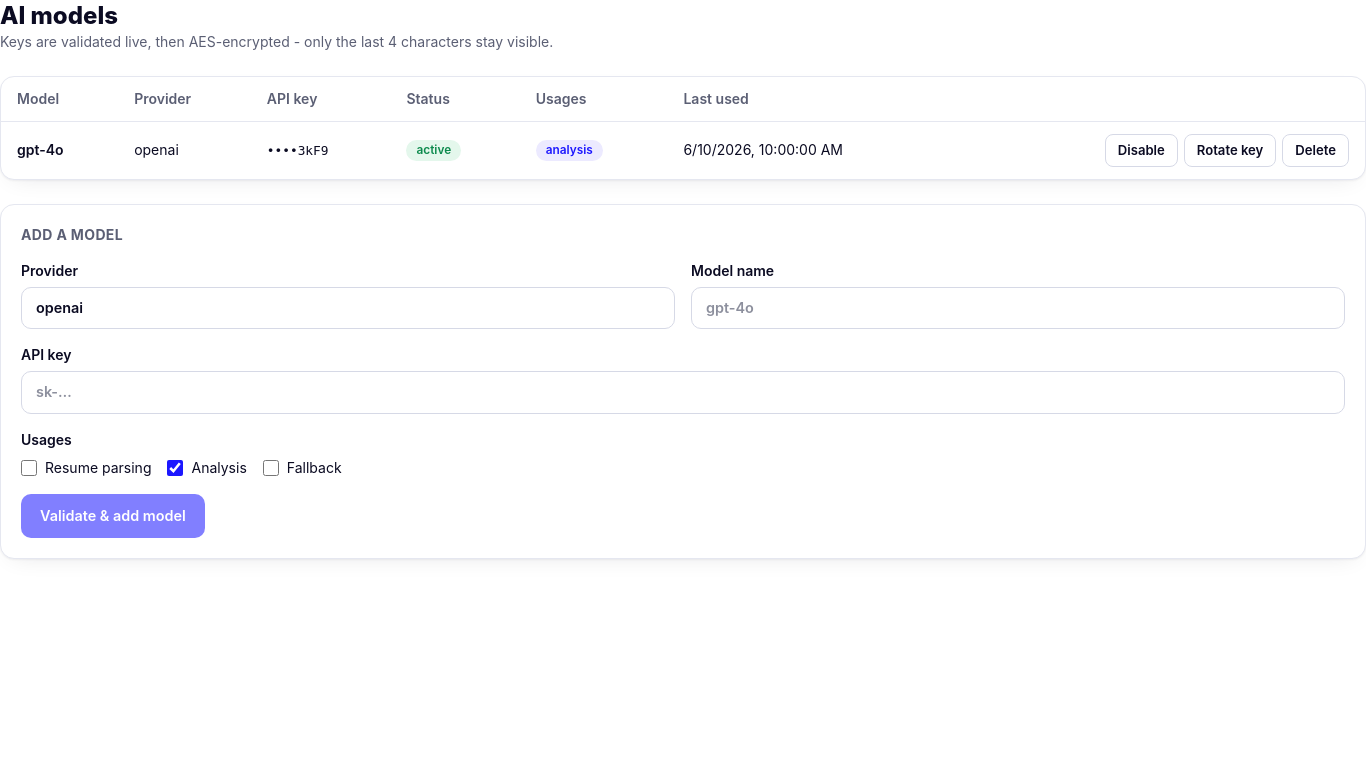
Test: admin model settings (issue #80 / 9.3) › rotate updates the mask; disable flips status
Expected: the text "••••3kF9" is shown, [267, 143, 328, 158]
Click the button "Rotate key".
click(1230, 150)  # box [1184, 134, 1276, 167]
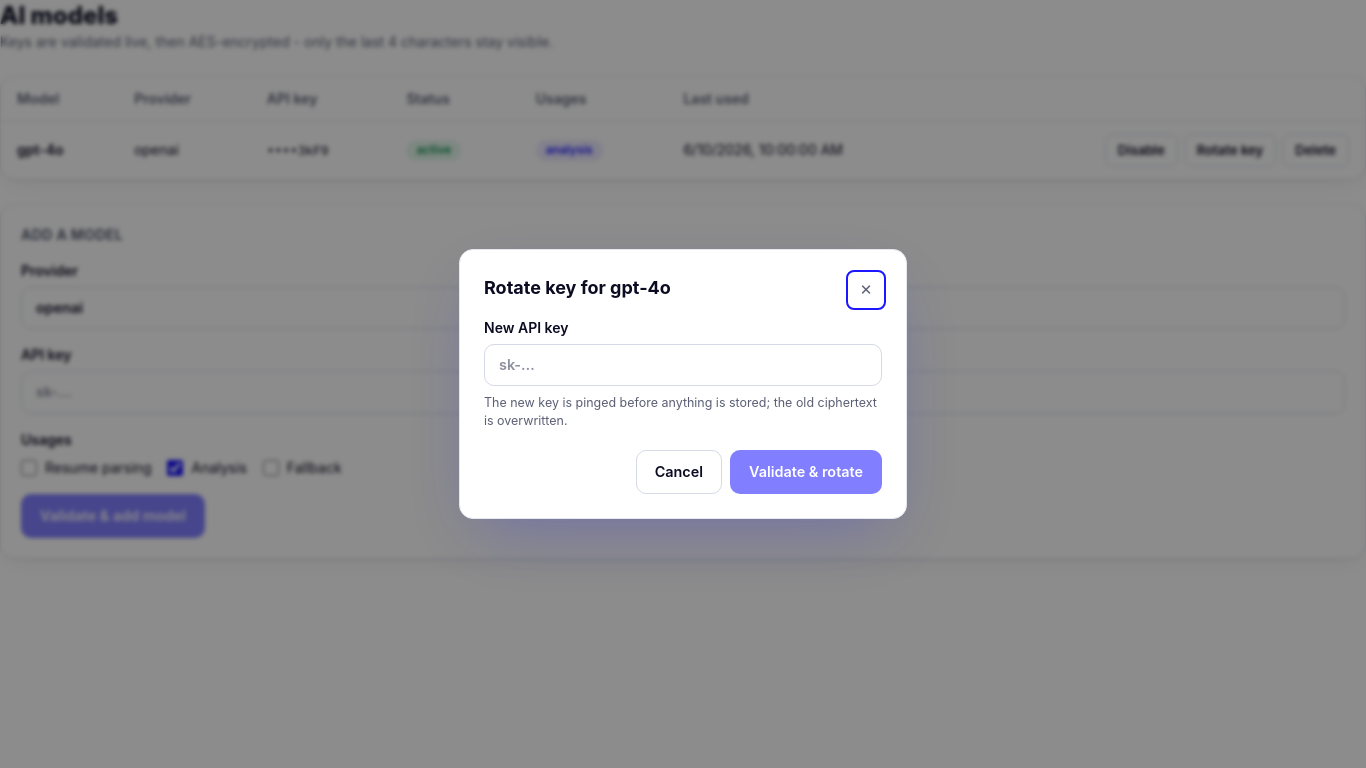
Type "sk-rotated-ZZ77" into the password field labelled "New API key".
click(683, 365); type("sk-rotated-ZZ77")  # box [484, 344, 882, 386]
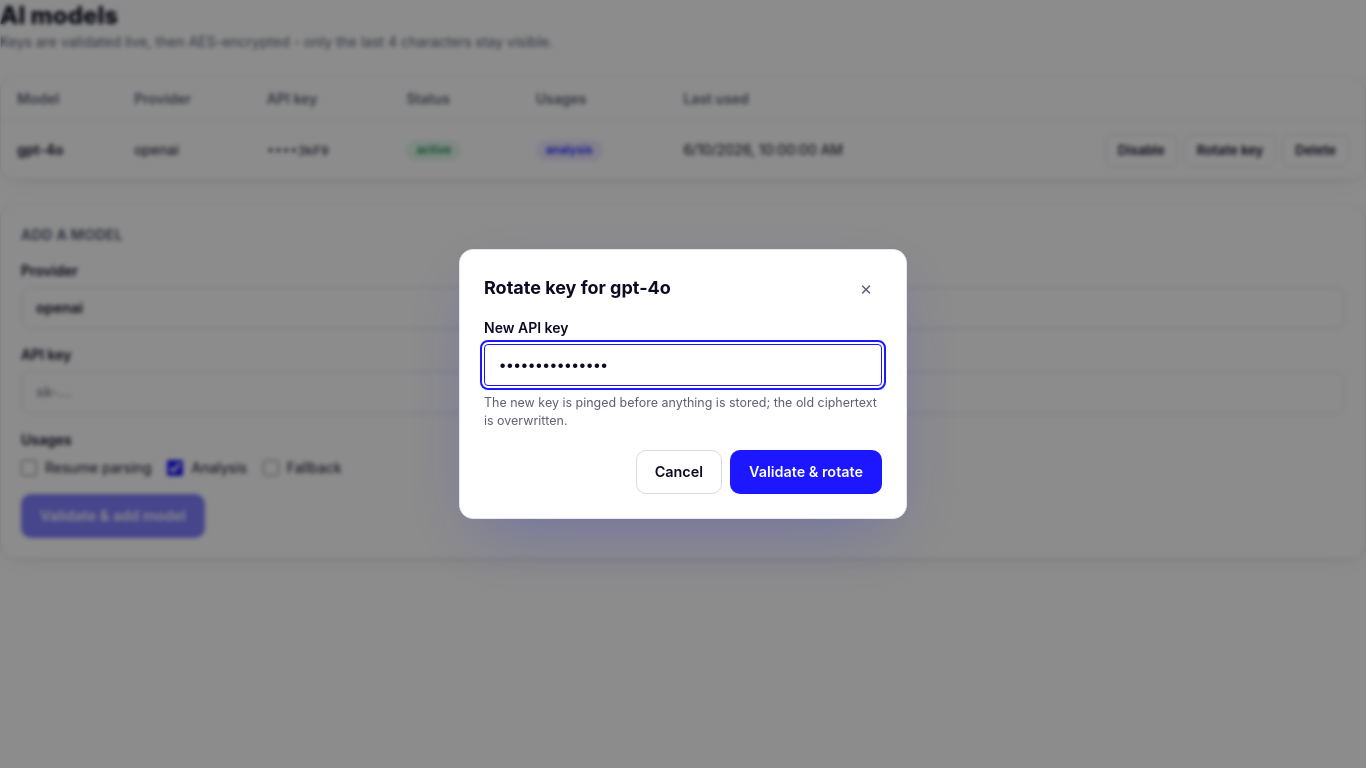
Now the button "Validate & rotate" is enabled
Click the button "Validate & rotate".
click(806, 472)  # box [730, 450, 882, 494]
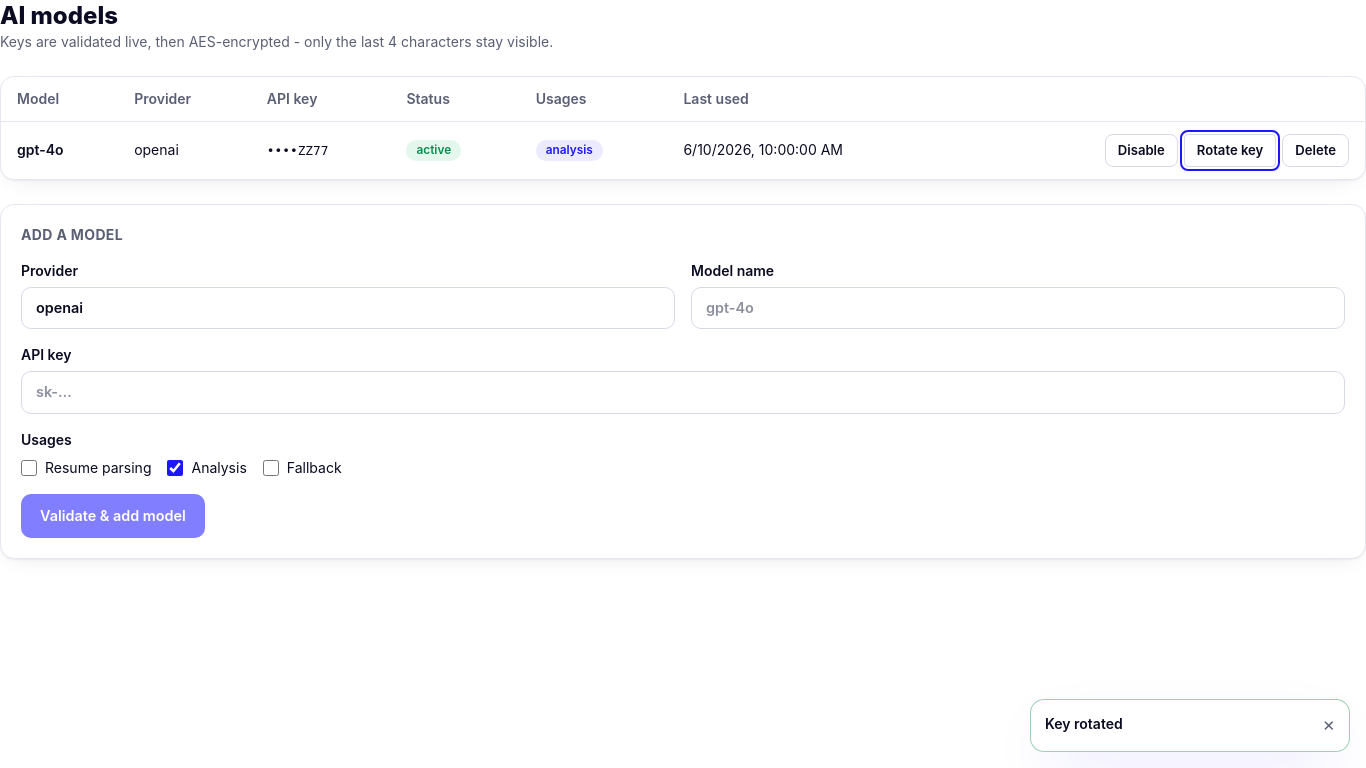
Now the dialog is gone
Now the text "••••ZZ77" is shown, box [267, 143, 328, 158]
Click the button "Disable".
click(1141, 150)  # box [1105, 134, 1178, 167]
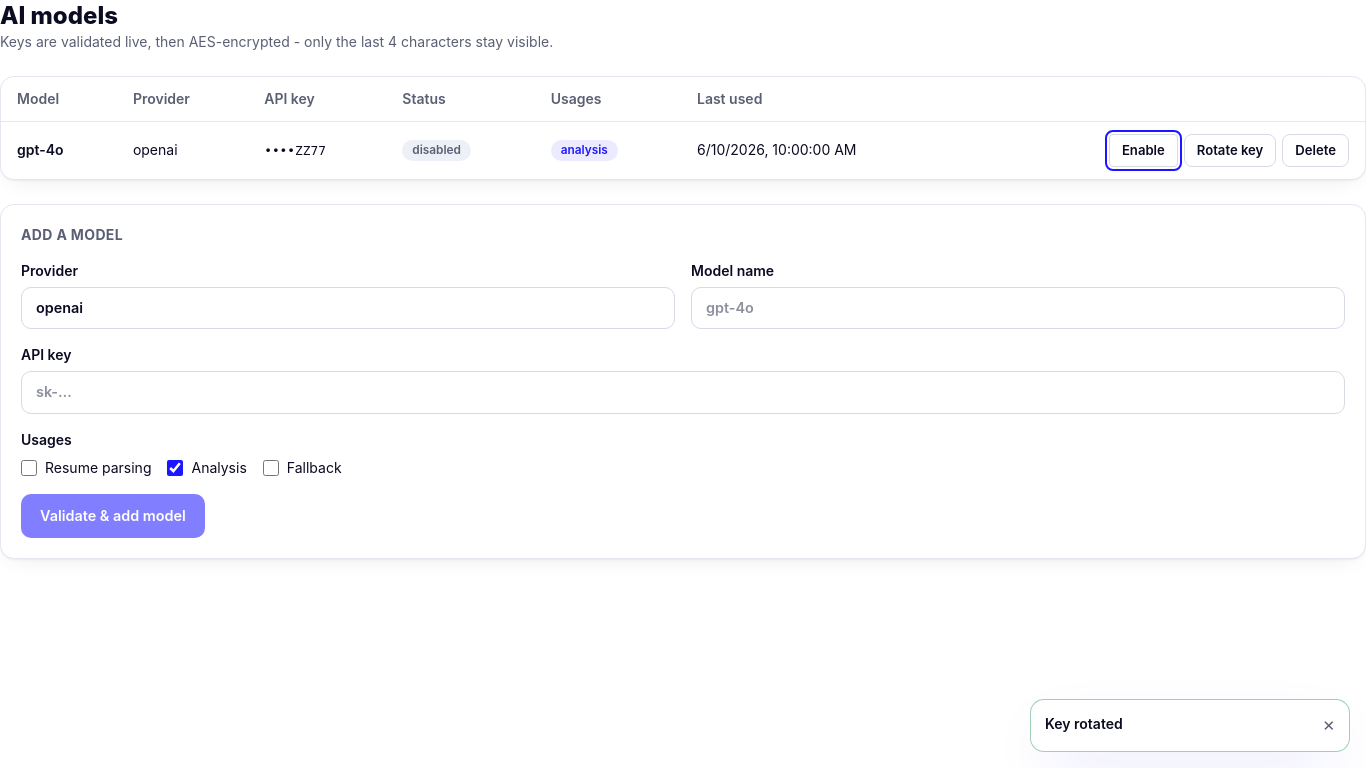
Now the text "disabled" is shown, box [402, 140, 471, 161]
